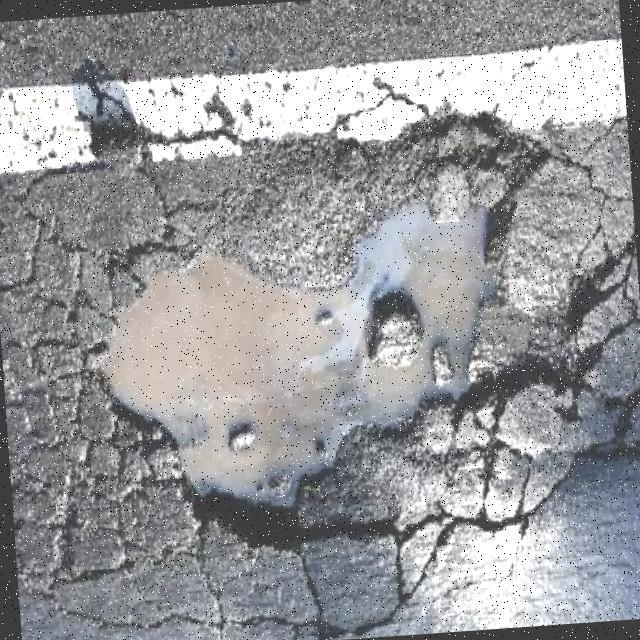Pothole: (96, 184, 636, 547)
